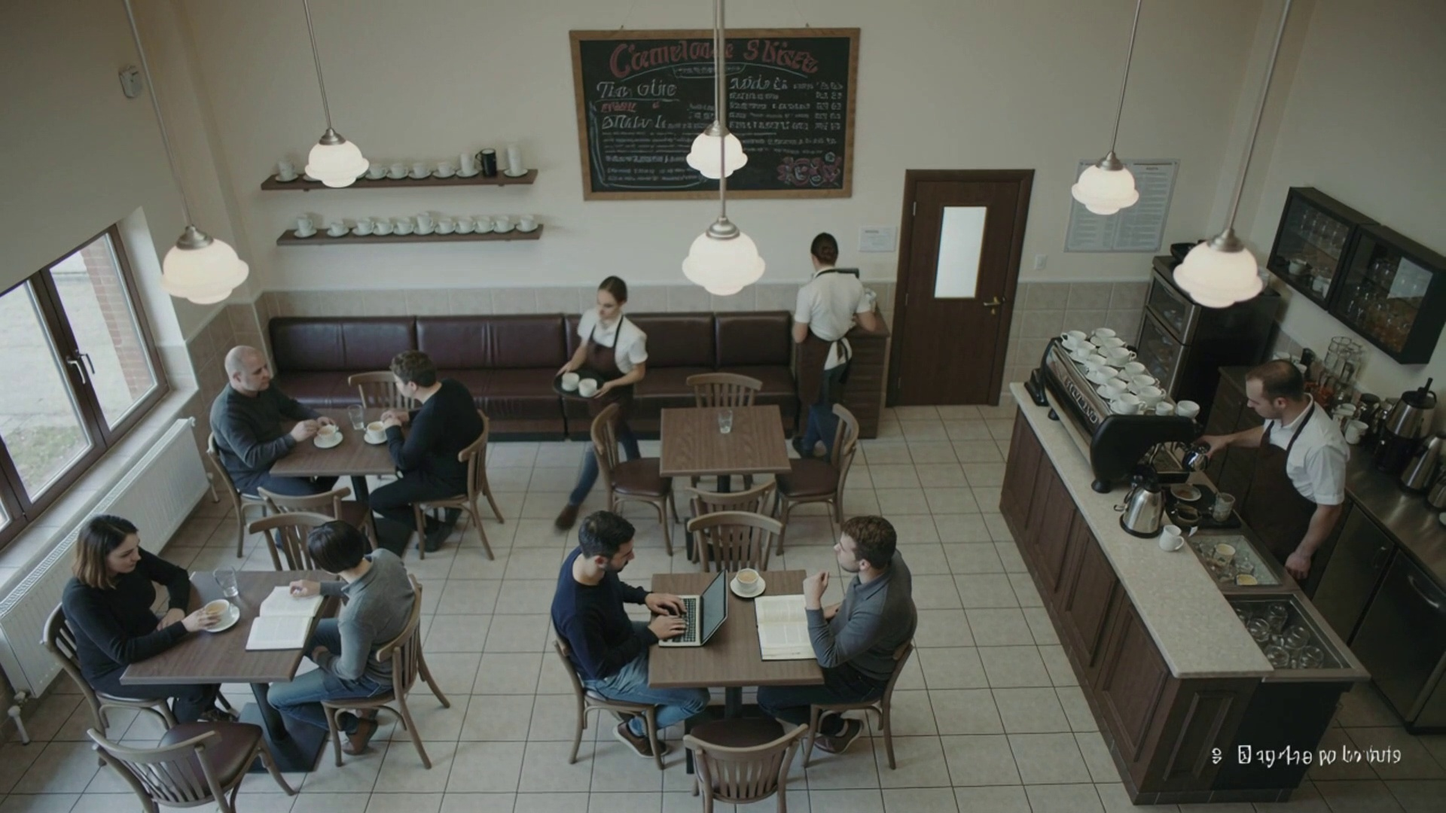client: (546, 514, 651, 791), (53, 507, 184, 724), (821, 511, 912, 749), (383, 341, 499, 520), (301, 532, 408, 723), (189, 324, 292, 516)
employé: (1218, 353, 1367, 602), (564, 269, 648, 462), (793, 231, 877, 408)
machine: (1012, 308, 1189, 534)
tables: (172, 553, 333, 709), (648, 570, 819, 705), (285, 376, 438, 523), (653, 391, 780, 522)
tables_vides: (657, 399, 792, 511)
